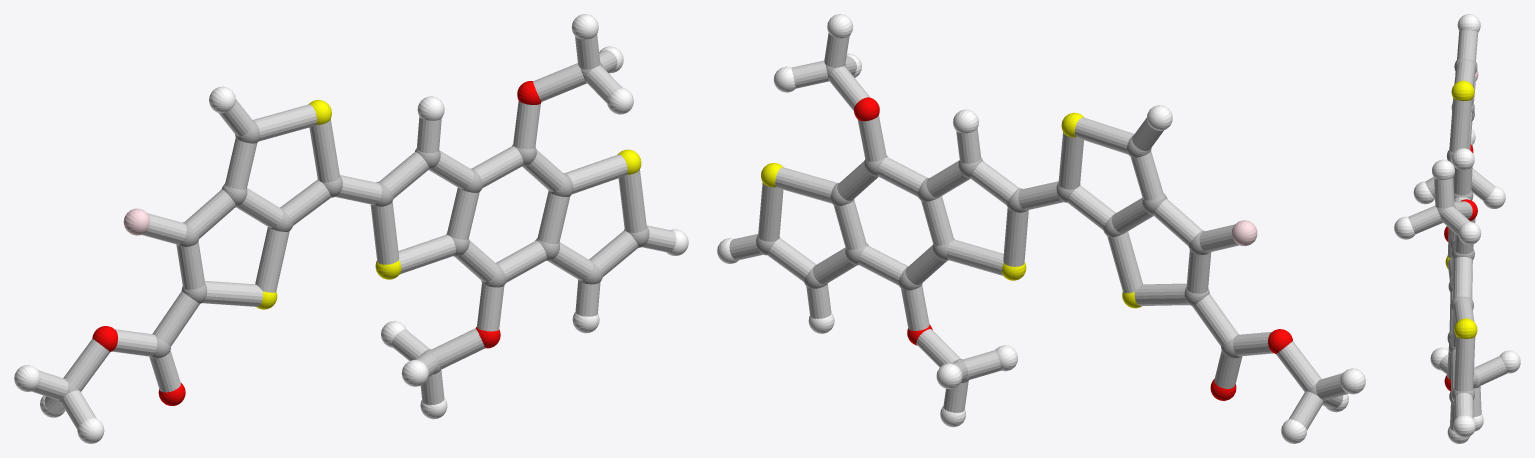
Rendered from Dimethoxy_Benzodithiophene_Phi_5_Theta_0_Methylcarbonyl_3_Fluoro_Thienothiophene.glb.
3 renders of one model, left to right at view 1: azimuth 30°, elevation 25°; view 2: azimuth 150°, elevation 25°; view 3: azimuth 270°, elevation 25°, orthographic. The views are drawn at different scales.
Visible parts, largest first — view 1: grp15205, grp8689, grp1, grp13395, grp7241; view 2: grp15205, grp8689, grp1, grp13395, grp7241; view 3: grp15205, grp8689, grp1, grp7241, grp13395.
Part boxes in pixels (box(x1,y1,x2,y2)): grp15205: box(32, 34, 676, 429); grp8689: box(14, 14, 688, 443); grp1: box(57, 62, 649, 403); grp13395: box(92, 81, 541, 405); grp7241: box(256, 100, 641, 309); grp15205: box(729, 33, 1348, 429); grp8689: box(717, 14, 1365, 443); grp1: box(756, 64, 1327, 402); grp13395: box(854, 97, 1292, 400); grp7241: box(761, 112, 1141, 308); grp15205: box(1408, 30, 1507, 430); grp8689: box(1394, 14, 1520, 443); grp1: box(1436, 59, 1480, 404); grp7241: box(1445, 80, 1477, 338); grp13395: box(1444, 144, 1477, 391).
Bounding box in the file's own units: 17.18 × 9.38 × 3.29.
